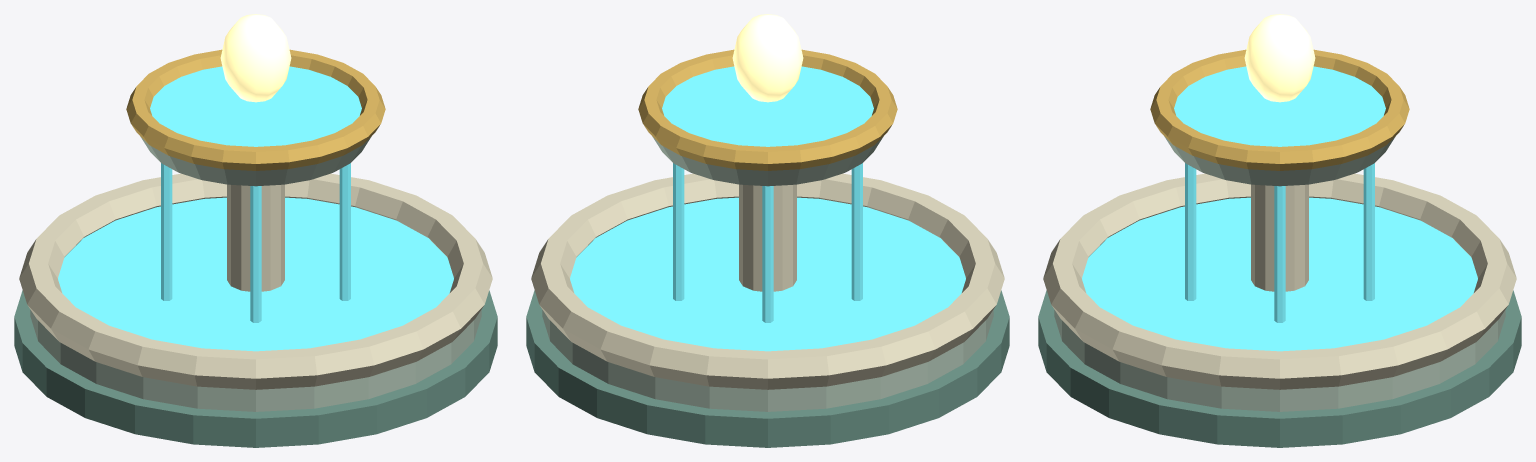
Rendered from garden_fountain.glb.
The picture shows the model from 3 angles, left to right: view 1: azimuth 30°, elevation 25°; view 2: azimuth 150°, elevation 25°; view 3: azimuth 270°, elevation 25°; orthographic projection.
Parts seen in each view (by area): view 1: Water, Rim, Foundation, UpperWater, UpperRim, Basin, Stem, LuminousPearl, UpperBowl, Waterfall.004, Waterfall.003, Waterfall.005; view 2: Water, Rim, Foundation, UpperWater, UpperRim, Basin, Stem, LuminousPearl, UpperBowl, Waterfall.002, Waterfall.001, Waterfall.003; view 3: Water, Rim, Foundation, UpperWater, UpperRim, Basin, Stem, LuminousPearl, UpperBowl, Waterfall, Waterfall.001, Waterfall.005.
Boxes of the visible parts, bbox=[...] form: Water: bbox=[58, 197, 453, 351]; Rim: bbox=[19, 173, 492, 389]; Foundation: bbox=[14, 290, 497, 447]; UpperWater: bbox=[150, 66, 361, 146]; UpperRim: bbox=[126, 49, 385, 170]; Basin: bbox=[30, 310, 481, 411]; Stem: bbox=[227, 184, 284, 291]; LuminousPearl: bbox=[220, 14, 291, 102]; UpperBowl: bbox=[140, 136, 371, 186]; Waterfall.004: bbox=[250, 186, 261, 322]; Waterfall.003: bbox=[161, 163, 172, 300]; Waterfall.005: bbox=[339, 163, 350, 300]; Water: bbox=[570, 197, 965, 351]; Rim: bbox=[531, 173, 1004, 389]; Foundation: bbox=[526, 290, 1009, 447]; UpperWater: bbox=[662, 66, 873, 146]; UpperRim: bbox=[638, 49, 897, 170]; Basin: bbox=[542, 310, 993, 411]; Stem: bbox=[739, 184, 796, 291]; LuminousPearl: bbox=[732, 14, 803, 102]; UpperBowl: bbox=[652, 136, 883, 186]; Waterfall.002: bbox=[762, 186, 773, 322]; Waterfall.001: bbox=[673, 163, 684, 300]; Waterfall.003: bbox=[851, 163, 862, 300]; Water: bbox=[1082, 197, 1477, 351]; Rim: bbox=[1043, 173, 1516, 389]; Foundation: bbox=[1038, 290, 1521, 447]; UpperWater: bbox=[1174, 66, 1385, 146]; UpperRim: bbox=[1150, 49, 1409, 170]; Basin: bbox=[1054, 310, 1505, 411]; Stem: bbox=[1251, 184, 1308, 291]; LuminousPearl: bbox=[1244, 14, 1315, 102]; UpperBowl: bbox=[1164, 136, 1395, 186]; Waterfall: bbox=[1274, 186, 1285, 322]; Waterfall.001: bbox=[1363, 163, 1374, 300]; Waterfall.005: bbox=[1185, 163, 1196, 300].
Size of the model in its own units: 3 by 2.26 by 3.
